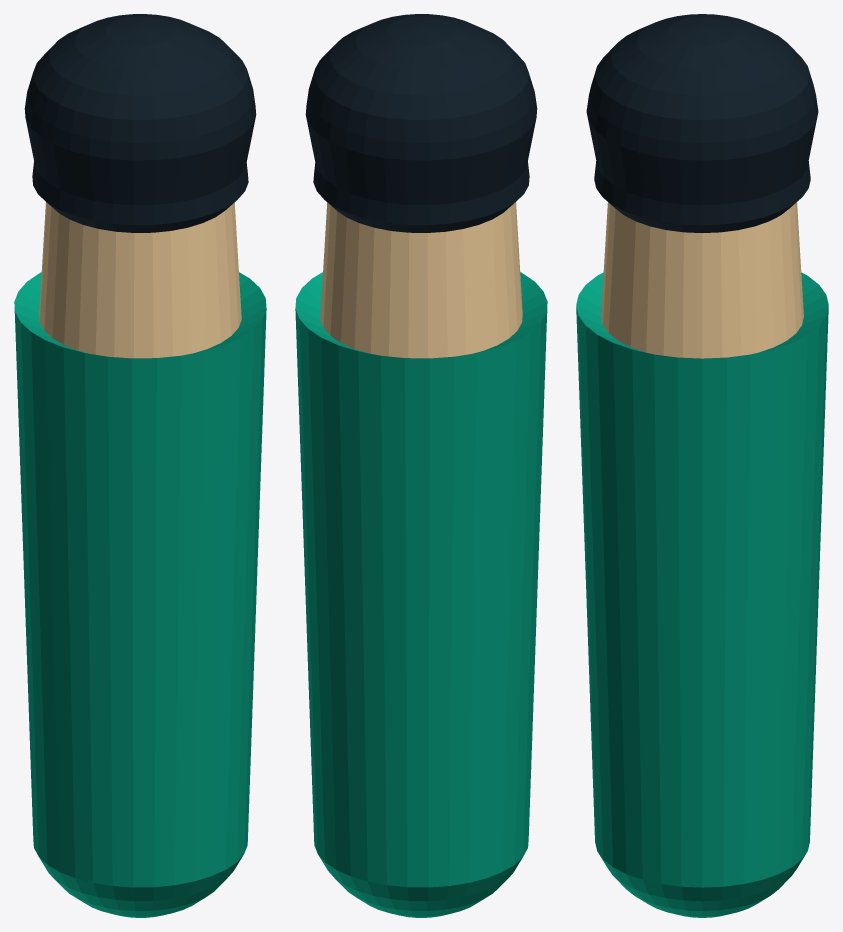
The model's file is 3D Arm.obj.
The picture shows the model from 3 angles, left to right: view 1: azimuth 30°, elevation 25°; view 2: azimuth 150°, elevation 25°; view 3: azimuth 270°, elevation 25°; orthographic projection.
Visible parts, largest first — view 1: Sphere; view 2: Sphere; view 3: Sphere.
Boxes of the visible parts, x1,y1,x2,y2 form: Sphere: [14, 14, 266, 917]; Sphere: [295, 14, 547, 917]; Sphere: [576, 14, 828, 917].
Bounding box in the file's own units: 2.33 × 8.96 × 2.33.
